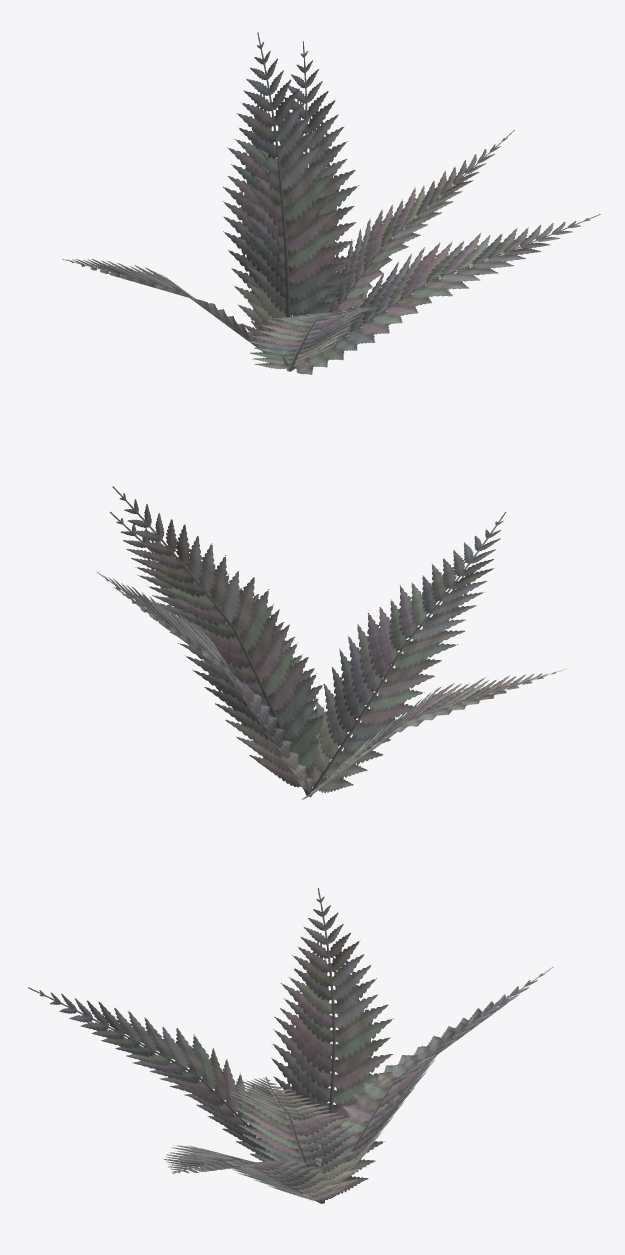
File: tree_fern_l2.gltf
The picture shows the model from 3 angles, top to bottom: view 1: azimuth 30°, elevation 25°; view 2: azimuth 150°, elevation 25°; view 3: azimuth 270°, elevation 25°; orthographic projection. The views are drawn at different scales.
Visible parts, largest first — view 1: tree_fern_l2; view 2: tree_fern_l2; view 3: tree_fern_l2.
Part boxes in pixels (x1,y1,x2,y2): tree_fern_l2: [62, 32, 600, 374]; tree_fern_l2: [96, 486, 565, 799]; tree_fern_l2: [28, 888, 553, 1203].
Bounding box in the file's own units: 4.17 × 2.17 × 3.75.
1 material, 1 textured.
